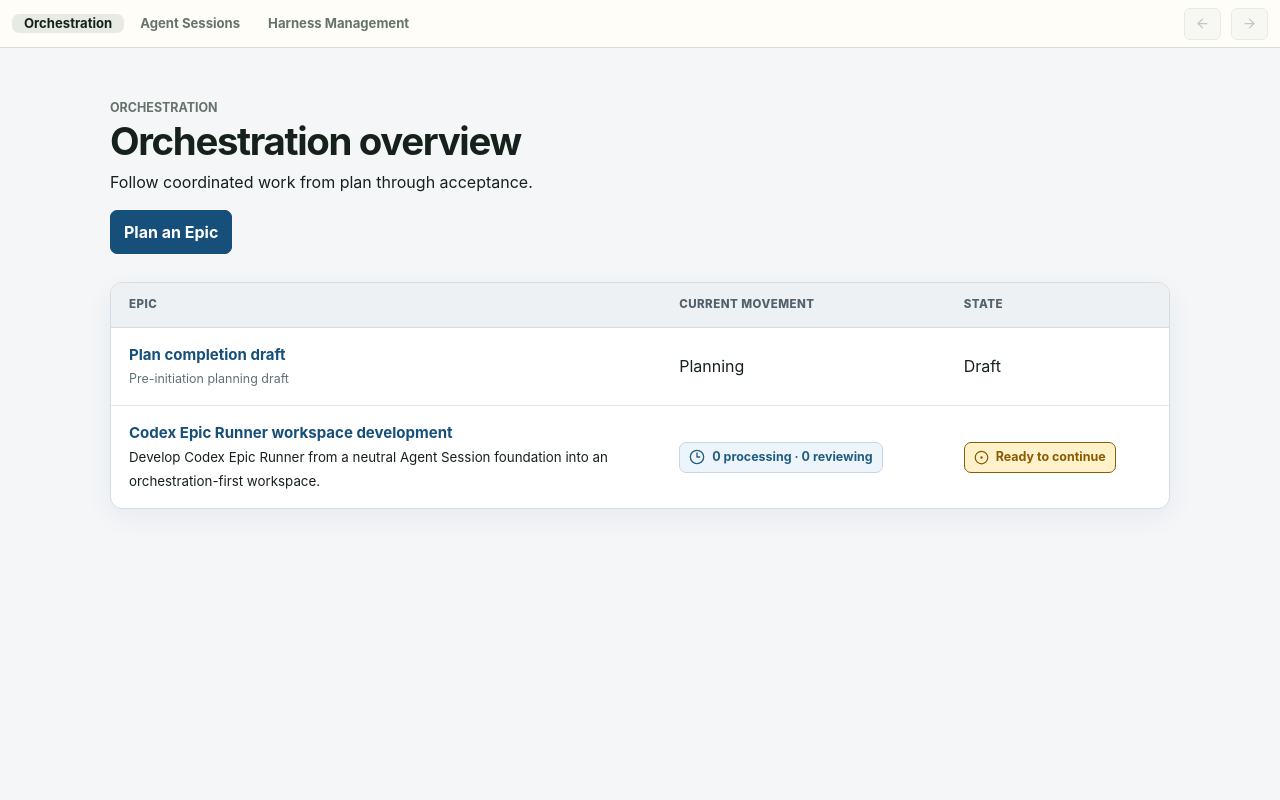
Test: App orchestration loading › reconciles same-draft initiation capability when a user-origin Plan Builder run records a proposal
Click the button "Plan completion draft Pre-initiation planning draft" at [207, 354], box [129, 344, 643, 389]
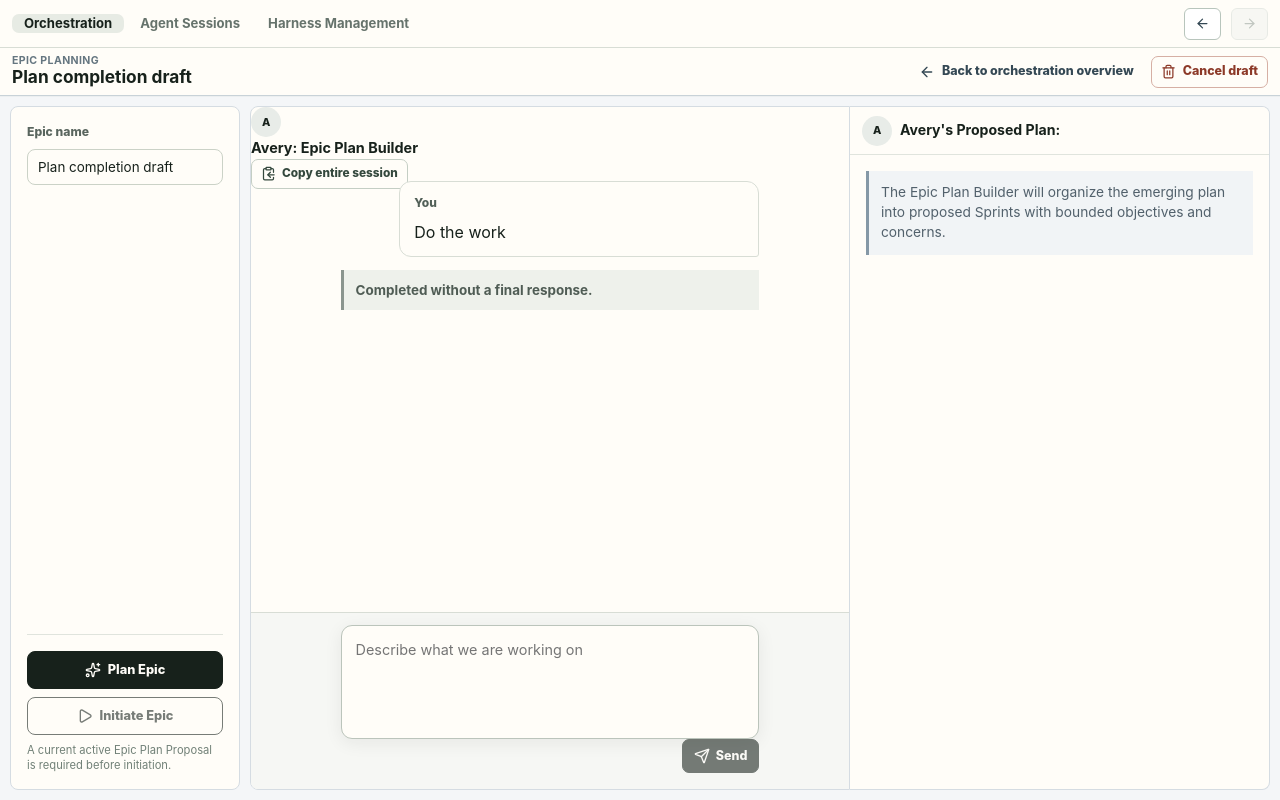
Check: the button "Initiate Epic" is disabled, box [27, 697, 223, 735]
Check: the text "A current active Epic Plan Proposal is required before initiation." is shown, box [27, 743, 223, 773]
Click the button "Plan Epic" at [125, 670], box [27, 651, 223, 689]
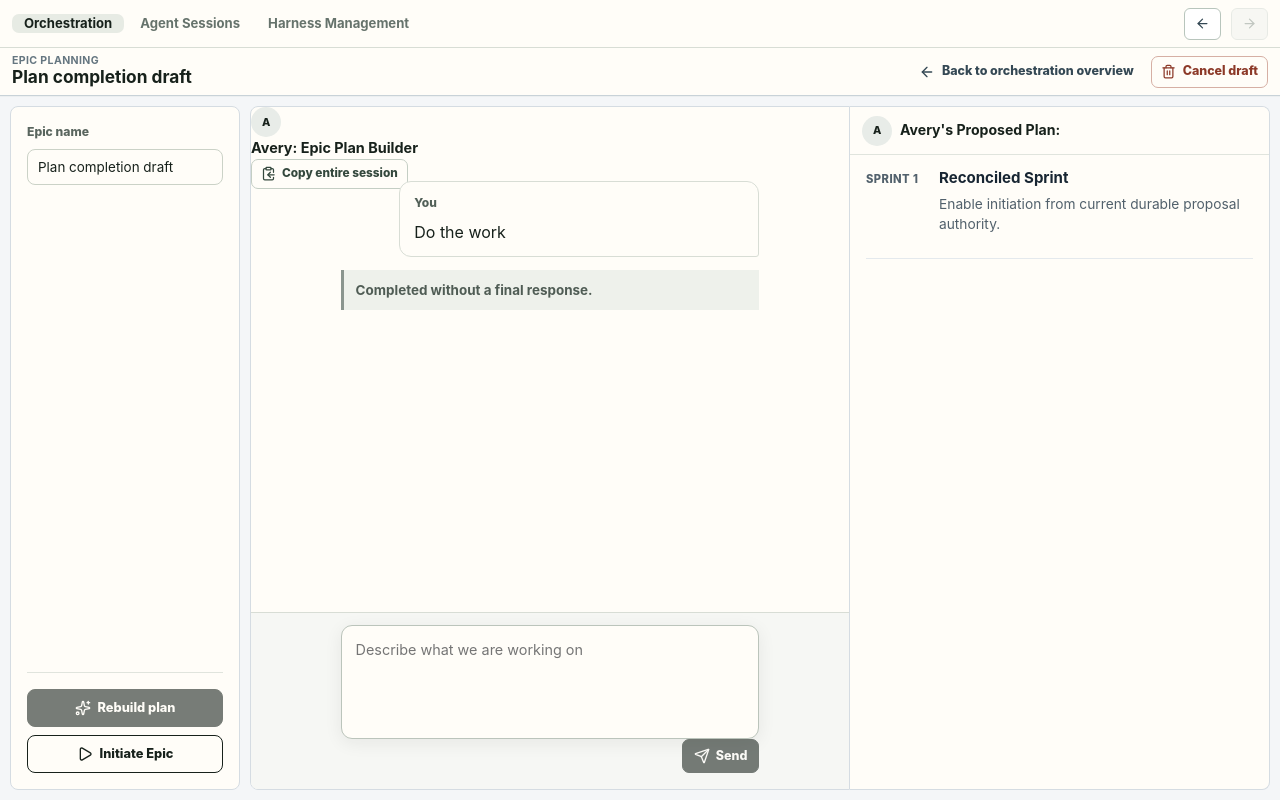
Check: the element named "Plan an Epic" is shown
Check: the text "Reconciled Sprint" is shown, box [939, 168, 1068, 187]
Check: the button "Initiate Epic" is enabled, box [27, 735, 223, 773]
